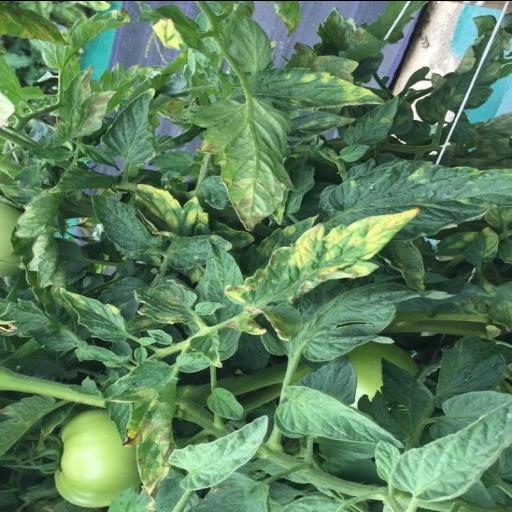disease_tomato: (225, 205, 419, 339), (182, 82, 300, 224), (110, 364, 178, 490), (244, 74, 382, 114), (132, 182, 210, 234), (58, 286, 128, 342), (134, 275, 198, 325)
